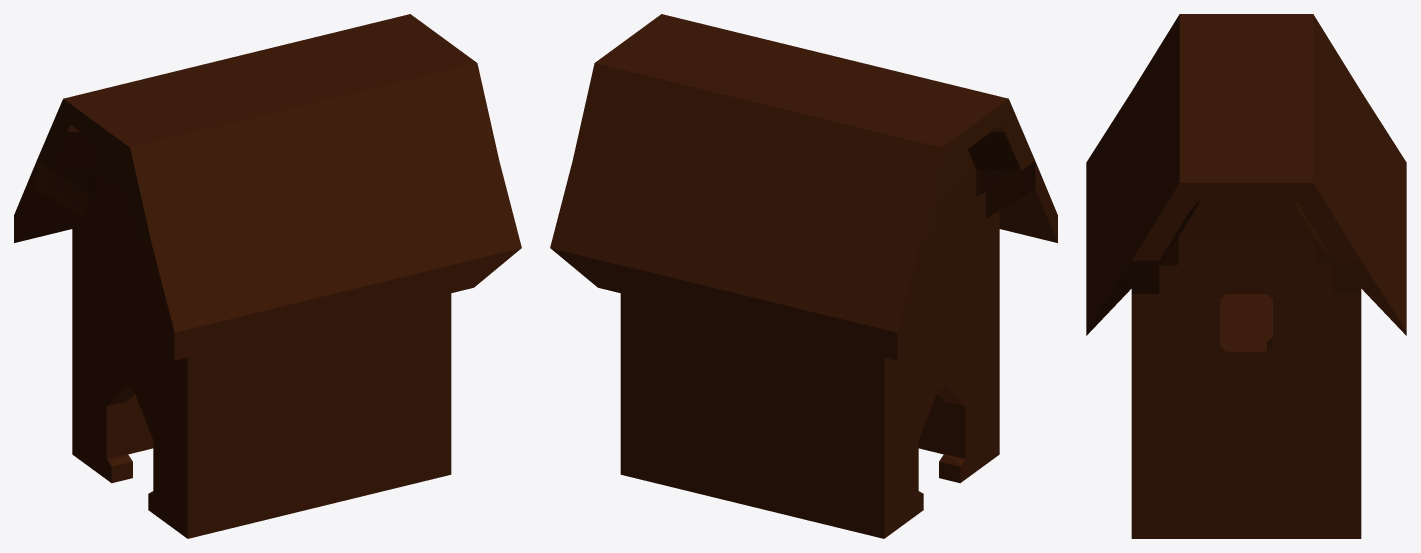
File: Forestopenninghouse.obj
The picture shows the model from 3 angles, left to right: view 1: azimuth 30°, elevation 25°; view 2: azimuth 150°, elevation 25°; view 3: azimuth 270°, elevation 25°; orthographic projection.
Visible parts, largest first — view 1: Cube; view 2: Cube; view 3: Cube.
Boxes of the visible parts, bbox=[...] form: Cube: bbox=[14, 14, 521, 538]; Cube: bbox=[550, 14, 1057, 538]; Cube: bbox=[1086, 14, 1406, 538].
Size of the model in its own units: 35.6 by 37.14 by 28.33.
